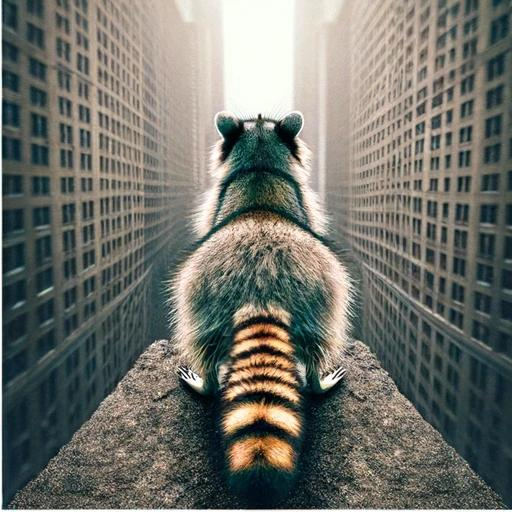raccoon: (155, 101, 367, 512)
